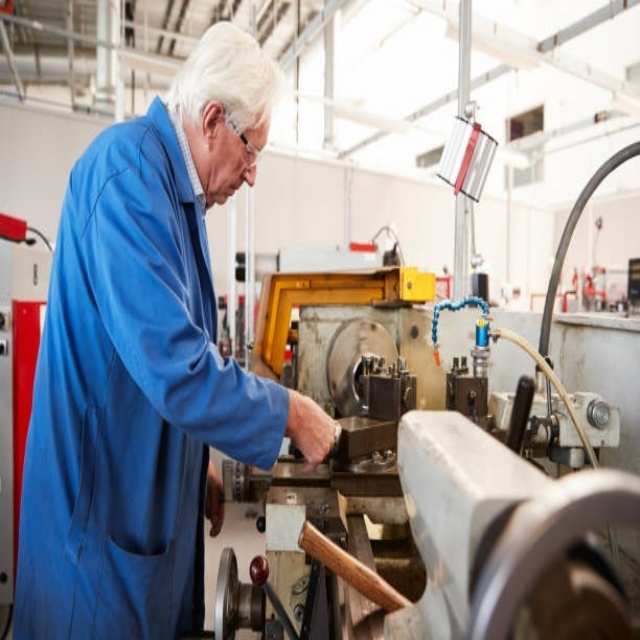Gafas: (223, 107, 263, 172)
Sin_guantes: (282, 384, 337, 474)
Sin_mascara: (212, 177, 247, 207)
